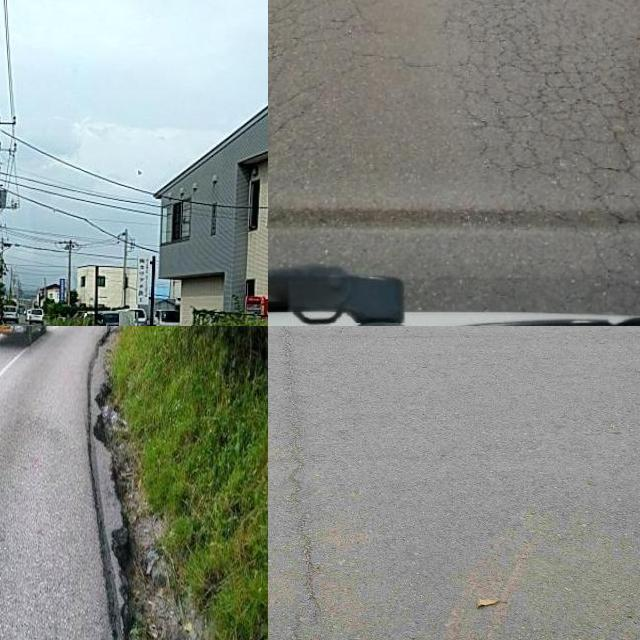Memanjang: (268, 326, 364, 640)
Pinggir: (62, 326, 209, 640)
Retak Buaya: (436, 0, 640, 259)
